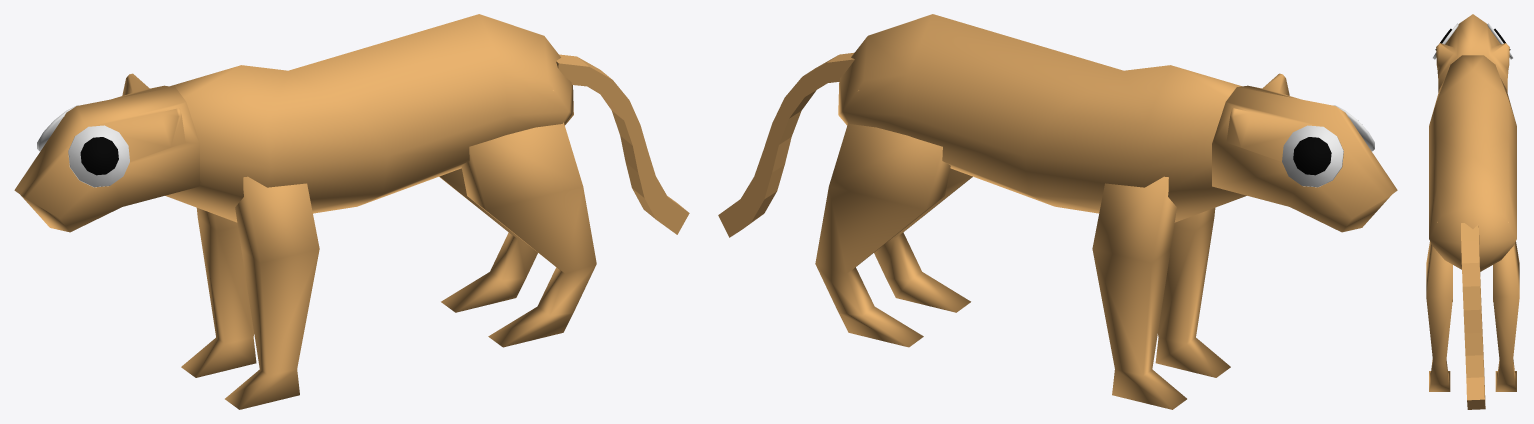
The model's file is M_Animal_Leopard.fbx.
3 views of the same model, side by side, from view 1: azimuth 30°, elevation 25°; view 2: azimuth 150°, elevation 25°; view 3: azimuth 270°, elevation 25° (orthographic). The views are drawn at different scales.
Visible parts, largest first — view 1: M_Animal_Leopard; view 2: M_Animal_Leopard; view 3: M_Animal_Leopard.
Part boxes in pixels (x1,y1,x2,y2): M_Animal_Leopard: [14, 14, 689, 409]; M_Animal_Leopard: [718, 14, 1397, 409]; M_Animal_Leopard: [1426, 14, 1519, 409].
Size of the model in its own units: 28.83 by 75.54 by 167.
